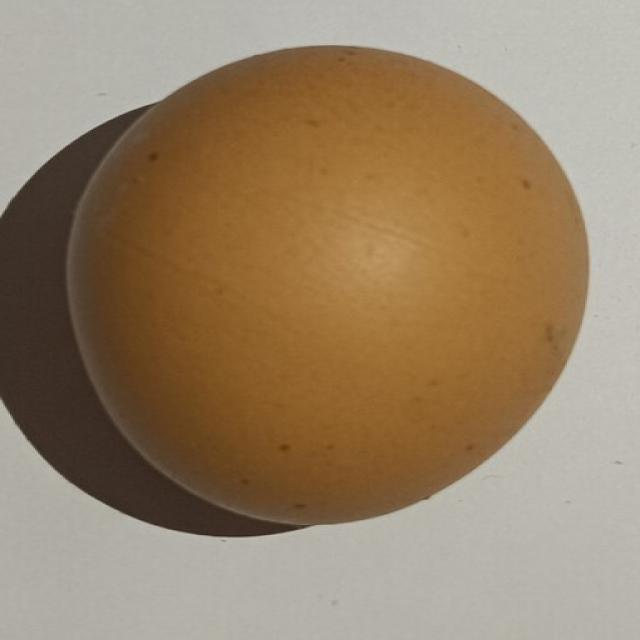unfresh: (49, 40, 599, 530)
